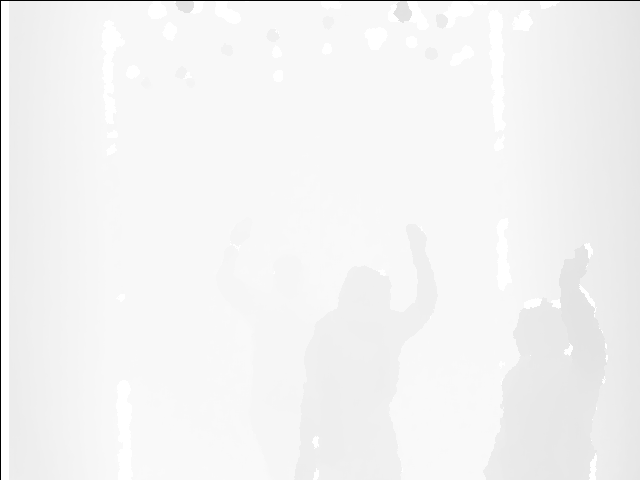hand: (559, 245, 595, 294), (228, 213, 261, 255), (404, 221, 430, 258)
